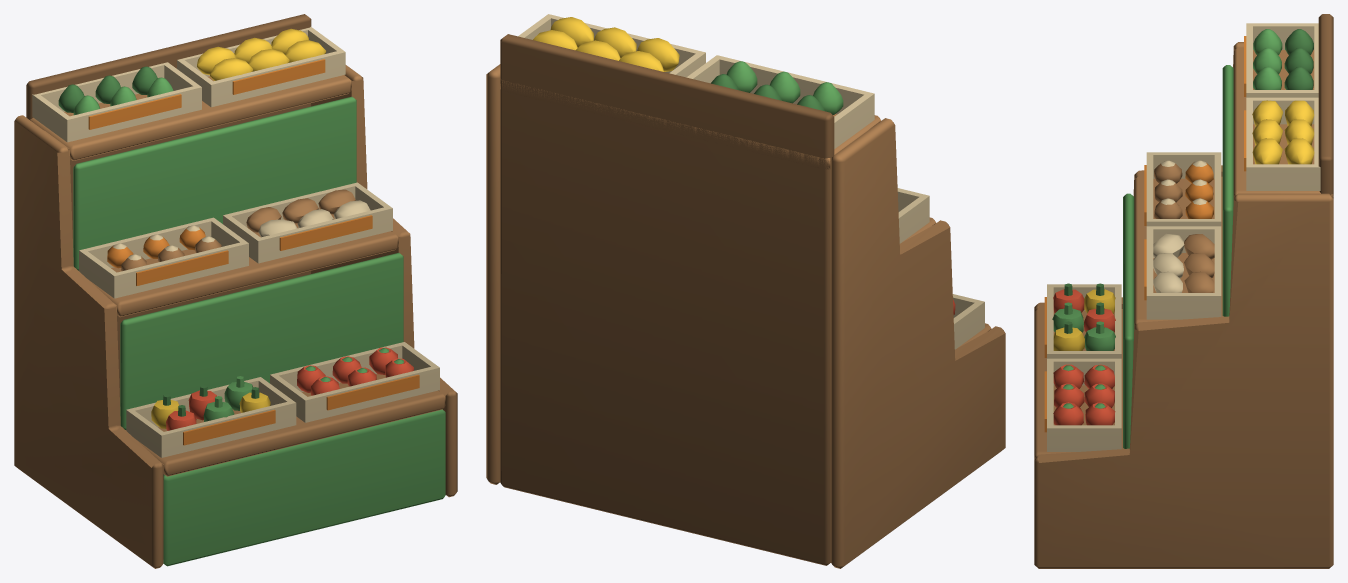
The model's file is ProduceStand_Tiered_10_Stocked.glb.
3 views of the same model, side by side, from view 1: azimuth 30°, elevation 25°; view 2: azimuth 150°, elevation 25°; view 3: azimuth 270°, elevation 25° (orthographic). The views are drawn at different scales.
Visible parts, largest first — view 1: SM_ProduceStand_Tiered_10_Stocked; view 2: SM_ProduceStand_Tiered_10_Stocked; view 3: SM_ProduceStand_Tiered_10_Stocked.
Boxes of the visible parts, bbox=[...] form: SM_ProduceStand_Tiered_10_Stocked: bbox=[14, 14, 457, 568]; SM_ProduceStand_Tiered_10_Stocked: bbox=[486, 14, 1005, 568]; SM_ProduceStand_Tiered_10_Stocked: bbox=[1034, 14, 1333, 568].
Size of the model in its own units: 1 by 1.2 by 0.8.
1 material, 1 textured.
